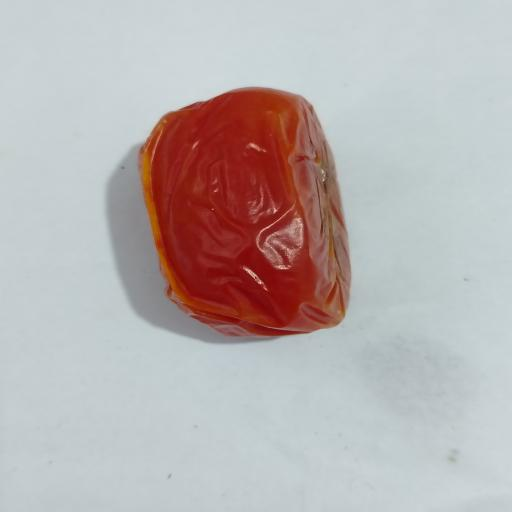spoiled: (141, 88, 350, 336)
